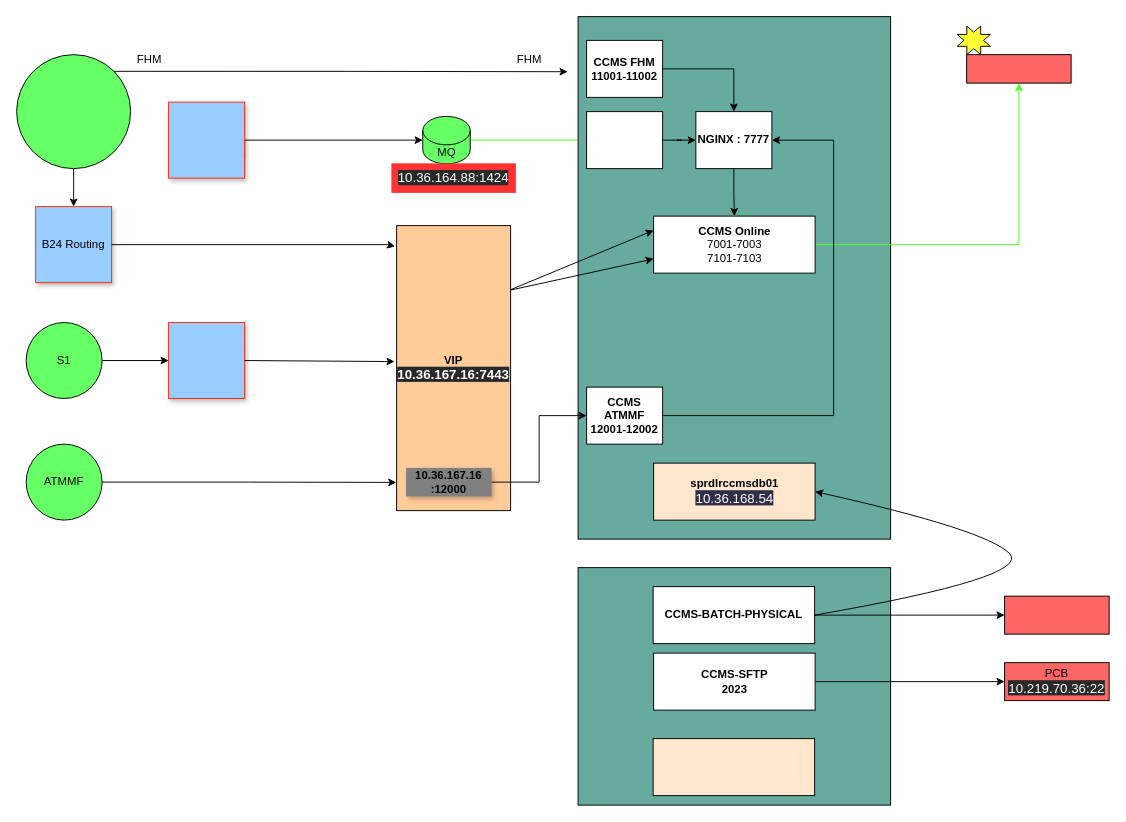
This 1126x822 diagram has some shape labels left out. The centre of each missing label's shape, as x and y in pixels:
"ATMMF(ATK8) 172.31.8.21:21" goes at (x=1056, y=614).
"CCMS MQ" goes at (x=624, y=140).
"EAI" goes at (x=207, y=361).
"HSM DR 10.36.36.31" goes at (x=1018, y=68).
"Midway for ATM" goes at (x=207, y=141).
"sprdlcccmsapp01 10.36.164.78" goes at (x=733, y=767).
"TANDEM" goes at (x=73, y=111).
